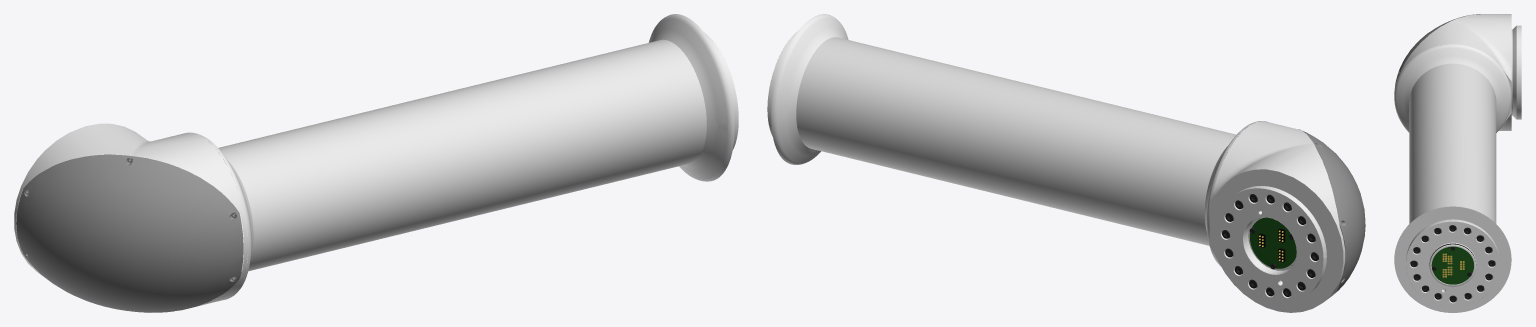
The picture shows the model from 3 angles, left to right: view 1: azimuth 30°, elevation 25°; view 2: azimuth 150°, elevation 25°; view 3: azimuth 270°, elevation 25°; orthographic projection. The views are drawn at different scales.
Visible parts, largest first — view 1: L116.001; view 2: L116.001; view 3: L116.001.
Part boxes in pixels (x1,y1,x2,y2): L116.001: [14, 14, 738, 312]; L116.001: [767, 14, 1365, 312]; L116.001: [1394, 14, 1521, 312].
Size of the model in its own units: 0.5107 by 0.116 by 0.126.
